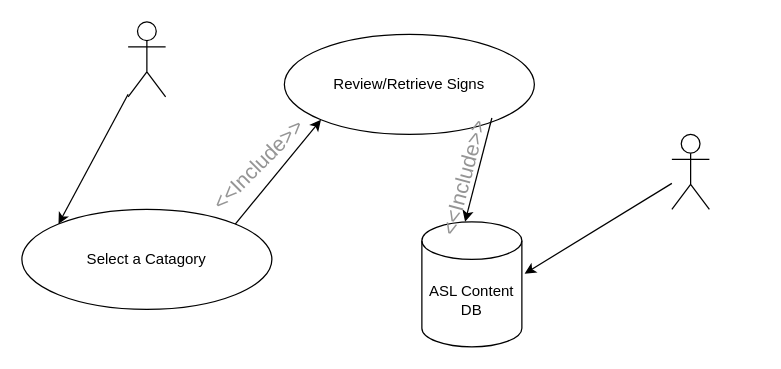
Some shapes in this 781 by 369 pixel diagram are drawn without their labels. Here are the shapes that lost their labels. From the top down, the centre of each, then its label:
(x=146, y=59): User
(x=690, y=171): ASL Content Makers
